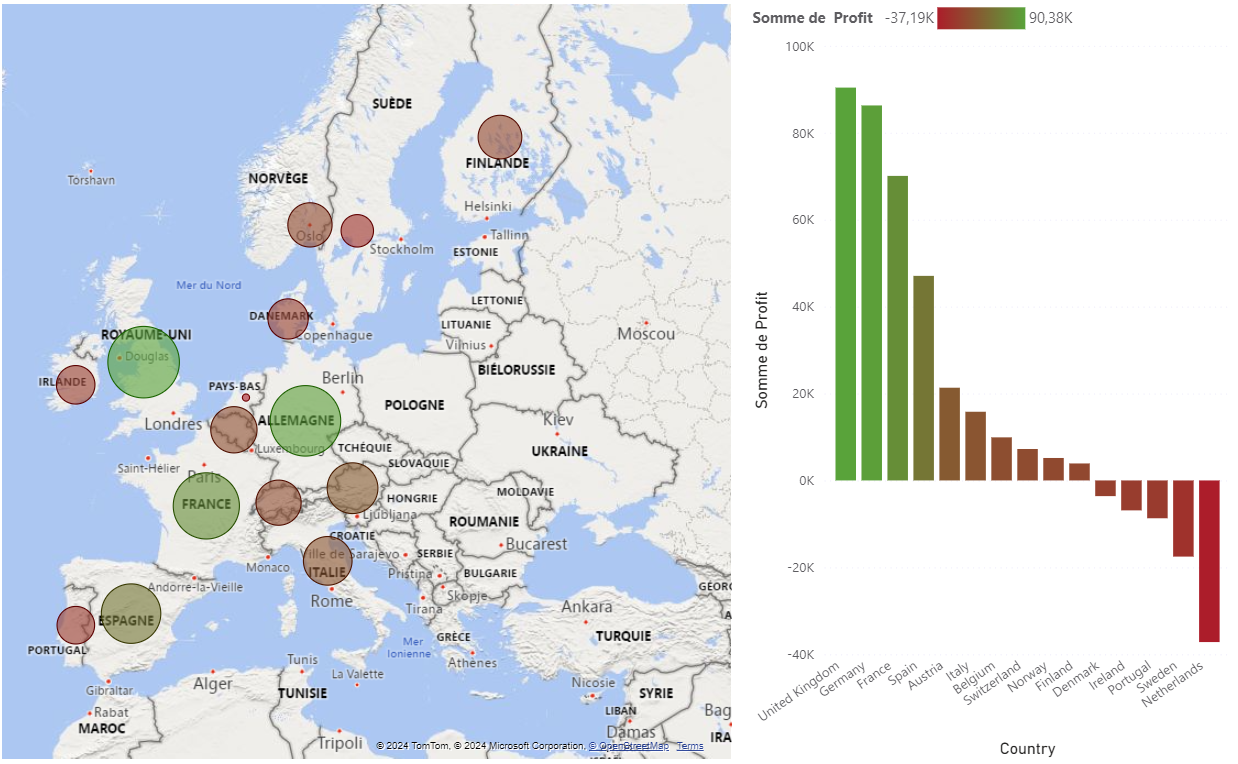

The page's visual inventory and layout, read from the dashboard file:
{"tool":"powerbi","page":{"name":"Carte","canvas":[1280,720],"ordinal":2},"visuals":[{"type":"map","title":"Profit par Pays","fields":{"Category":["Market_retail.Country"],"Size":["Sum(Market_retail. Profit )"]},"box":[9.7,0,816,719.8],"z":0},{"type":"actionButton","box":[0,0,100,40],"z":1000},{"type":"columnChart","title":"Profit par Pays","fields":{"Category":["Market_retail.Country"],"Y":["Sum(Market_retail. Profit )"]},"box":[835.7,0,444.3,719.5],"z":2000}]}

Visuals, with their boxes on the page's 1280x720 design canvas (x1, y1, x2, y2). These are canvas units, not pixel positions in the 1238x764 screenshot, which may show the page scaled, cropped or inside an application window:
"Profit par Pays" map: <bbox>10, 0, 826, 720</bbox>
actionButton: <bbox>0, 0, 100, 40</bbox>
"Profit par Pays" columnChart: <bbox>836, 0, 1280, 720</bbox>
